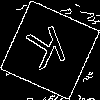K: (25, 25, 72, 79)
